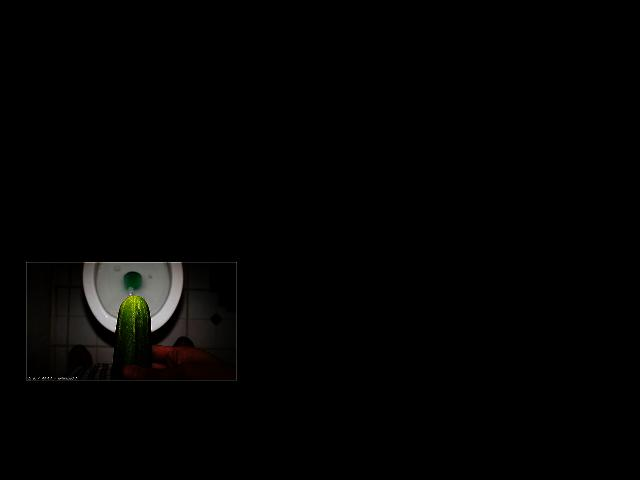cucumber: (111, 296, 150, 381)
